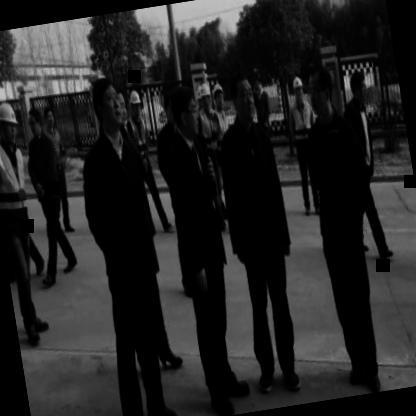head: (89, 74, 130, 140), (162, 79, 202, 142), (302, 57, 336, 124), (228, 67, 258, 124), (348, 65, 370, 107), (22, 103, 46, 141), (42, 104, 56, 131)
helmet: (0, 95, 24, 148), (126, 84, 146, 126), (210, 76, 229, 116), (289, 74, 307, 110), (198, 81, 214, 114)
